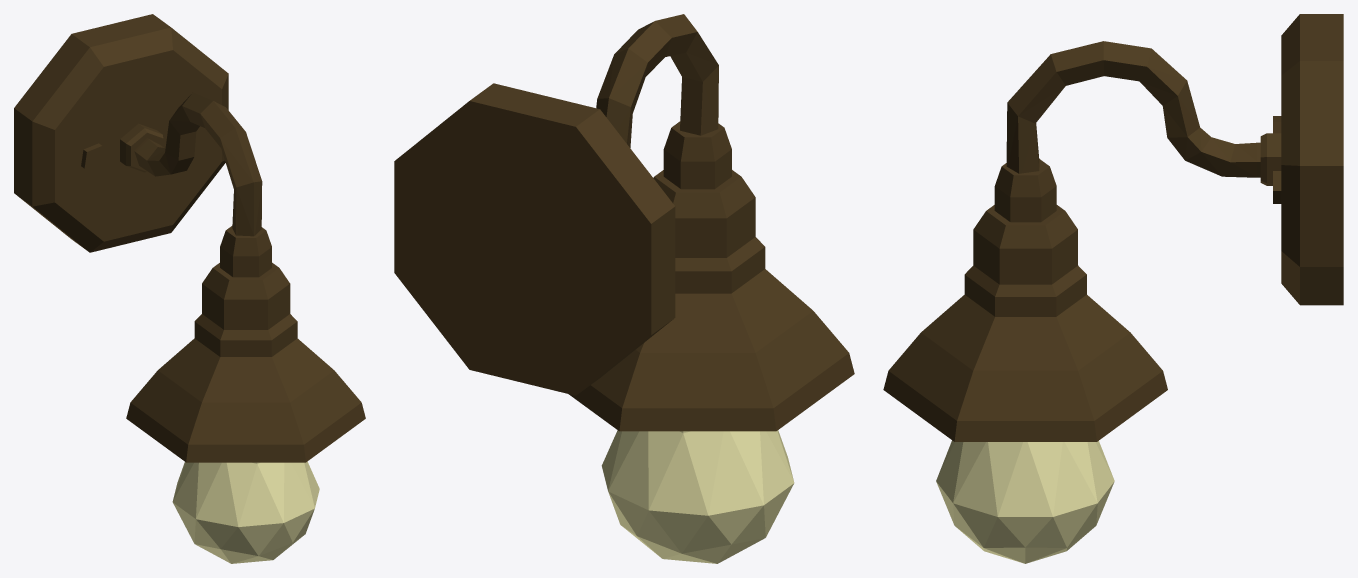
File: wall-lamp-brass.glb
The picture shows the model from 3 angles, left to right: view 1: azimuth 30°, elevation 25°; view 2: azimuth 150°, elevation 25°; view 3: azimuth 270°, elevation 25°; orthographic projection. The views are drawn at different scales.
Visible parts, largest first — view 1: Base; view 2: Base; view 3: Base.
Part boxes in pixels (x1,y1,x2,y2): Base: [14, 14, 365, 563]; Base: [394, 14, 854, 563]; Base: [883, 14, 1343, 563].
Size of the model in its own units: 0.1867 by 0.4 by 0.3191.
